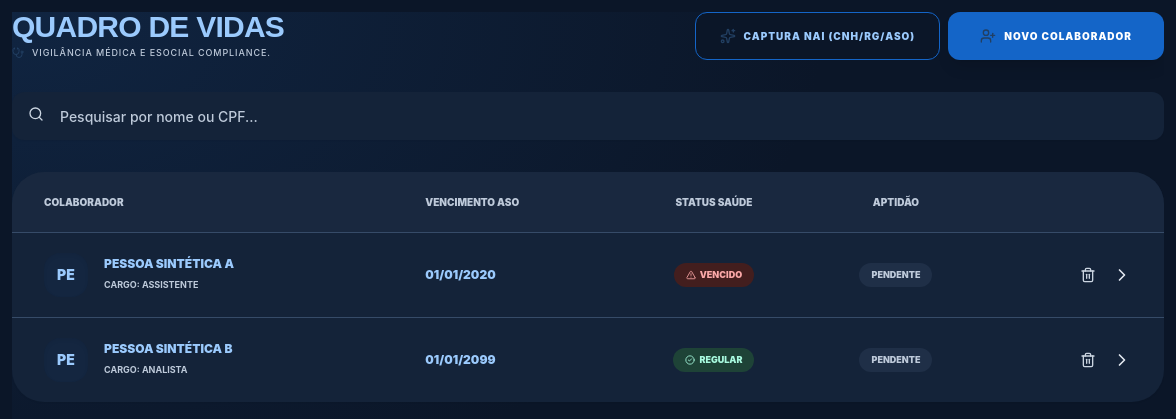
Test: employee directory › archives only the selected company when employee IDs repeat
This screenshot has width=1176, height=419.
Click the button titled "Arquivar Colaborador" in the row of "Pessoa sintética A" at {"x": 1088, "y": 275}, box [1072,259,1104,291]
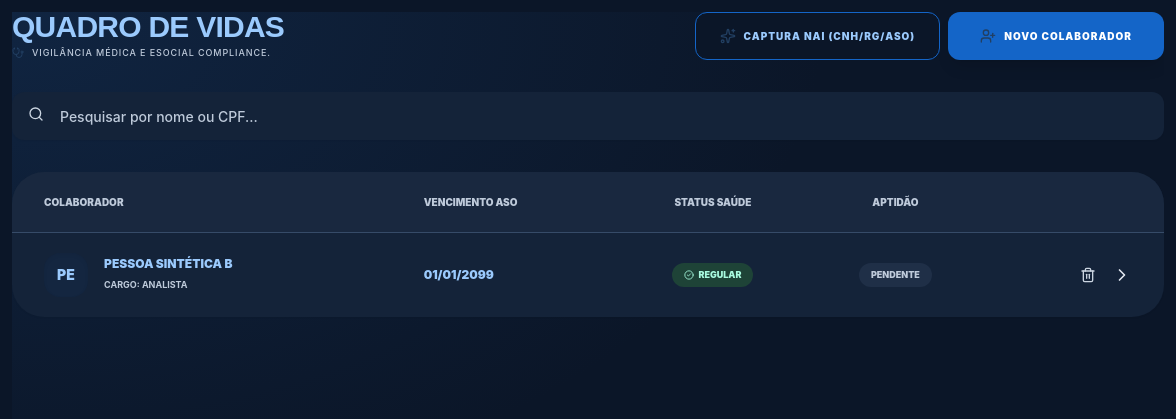
Expected: the text "Pessoa sintética B" is shown, [104,256,232,270]
Expected: the text "Pessoa sintética A" is gone
